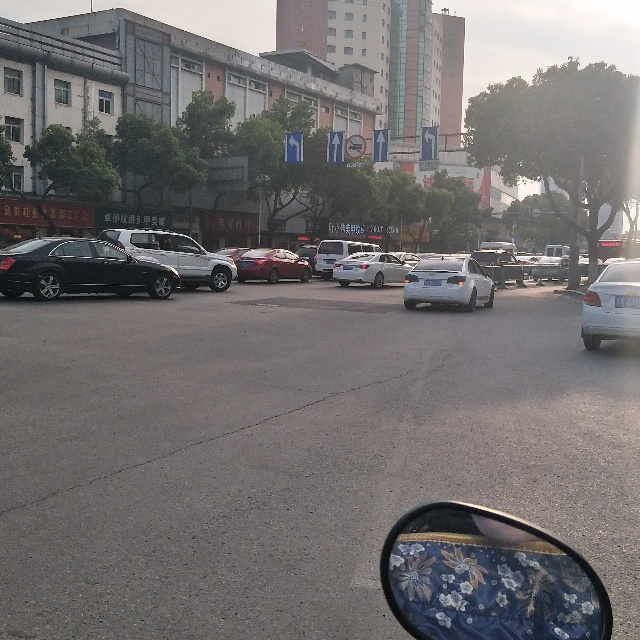left: (284, 131, 307, 167), (420, 127, 438, 160)
straight: (375, 131, 390, 164), (330, 132, 345, 162)
